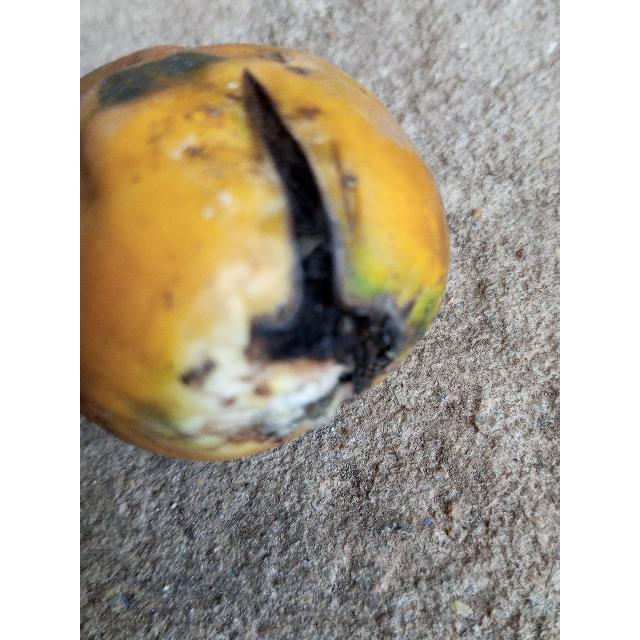damaged: (80, 45, 449, 459)
